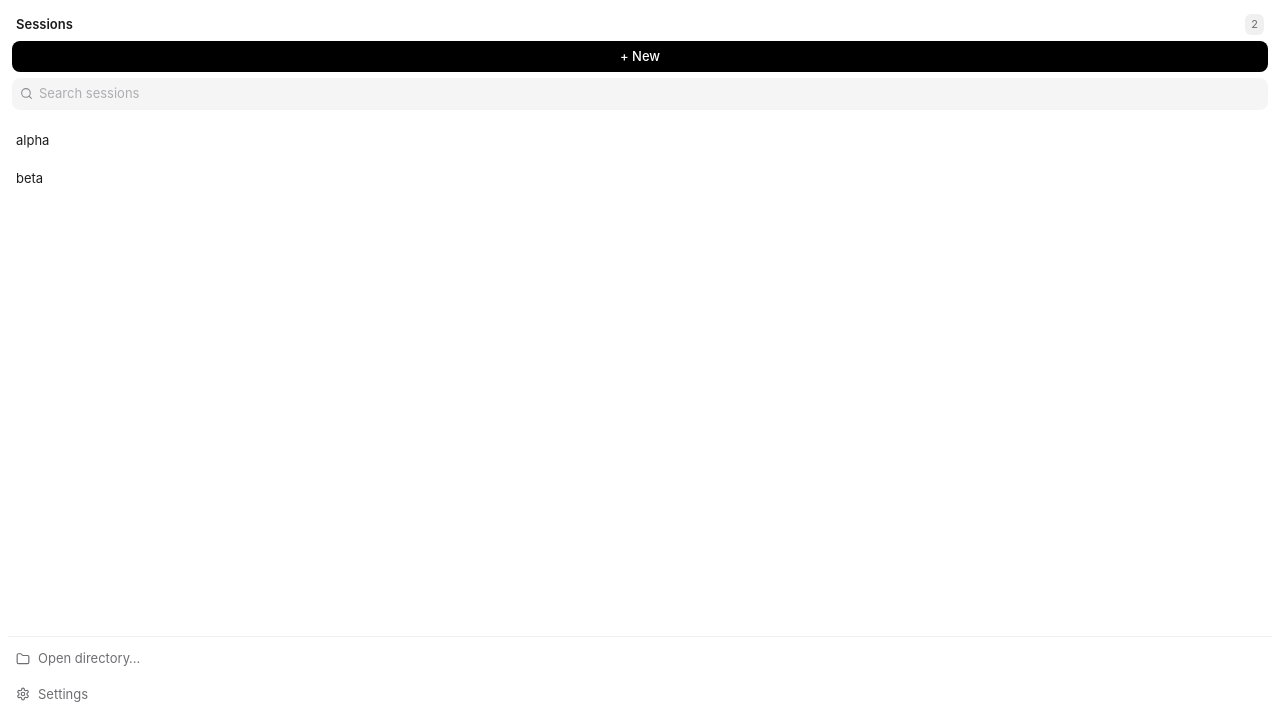
Test: SessionListPanel › search filters sessions
The image size is (1280, 720).
In the field labelled "Search sessions": (650, 94) top-left (39, 84), bottom-right (1260, 104), type "alp"
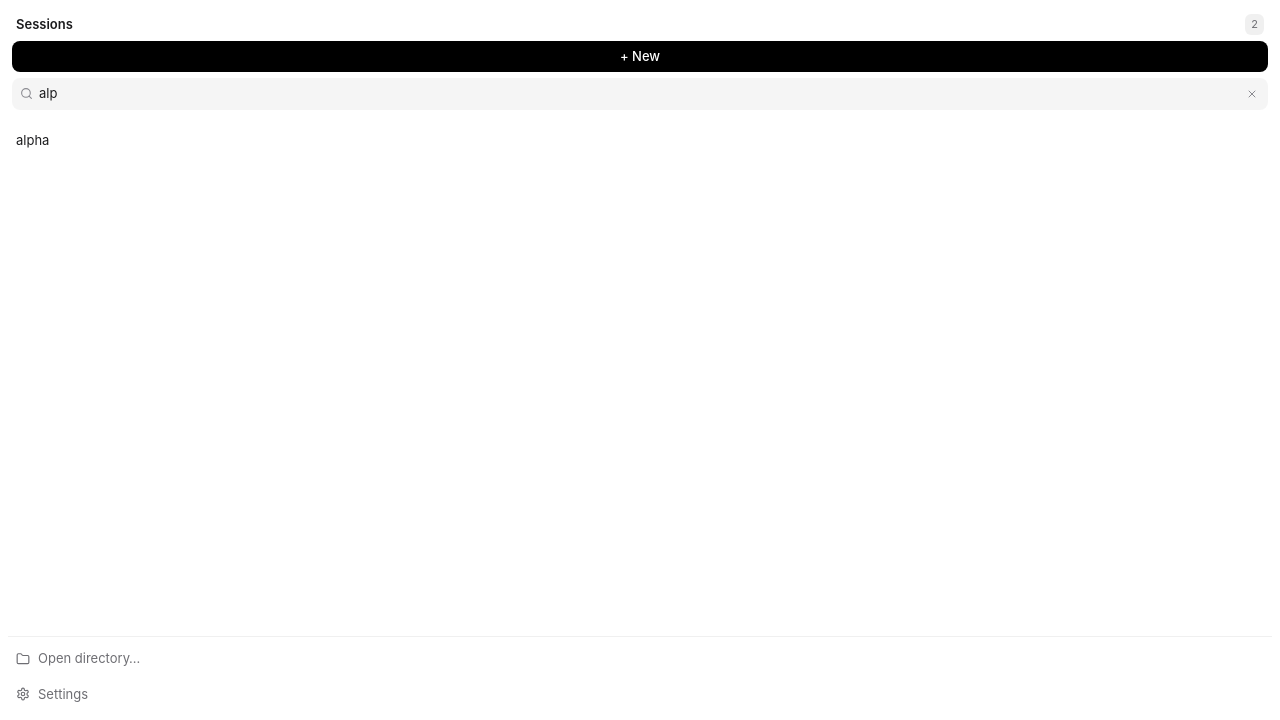
Check: the button "alpha" is shown, box top-left (16, 131), bottom-right (1184, 150)
Check: the button "beta" is gone
